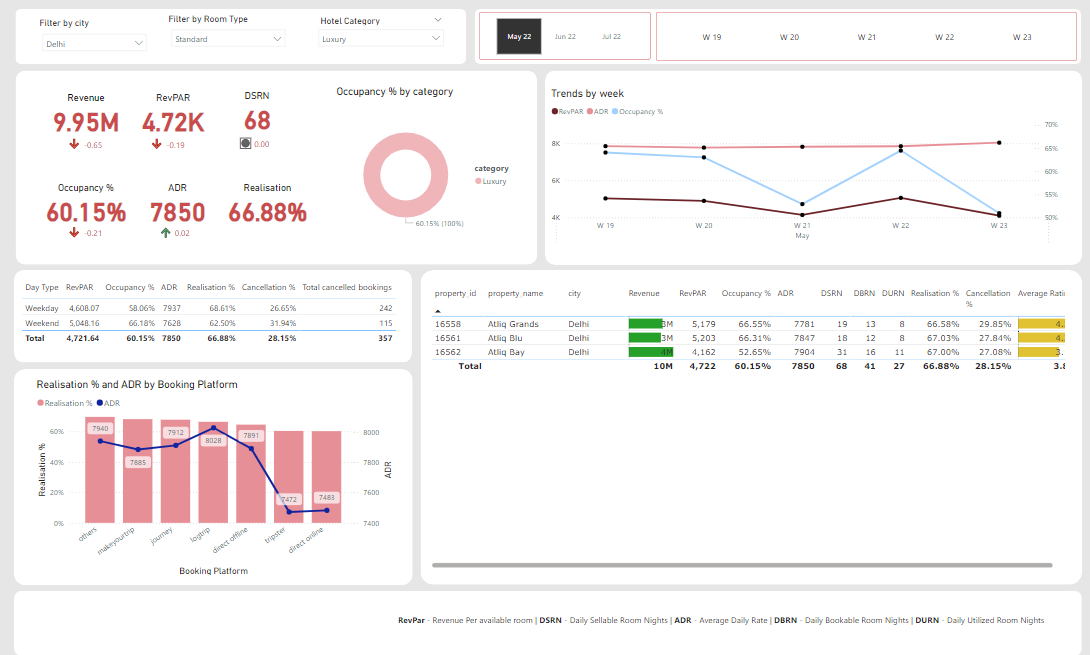

What the dashboard file says about the page in this screenshot:
{"tool":"powerbi","page":{"name":"Page 1","canvas":[1800,1100],"ordinal":0},"visuals":[{"type":"shape","box":[790,42.9,982.7,89.1],"z":0,"group":"g2"},{"type":"tableEx","fields":{"Values":["key_measures.Realisation WoW change %"]},"box":[407.7,362.6,78.5,62.4],"z":0,"group":"g1"},{"type":"shape","box":[702,466,1072,510],"z":0},{"type":"shape","box":[44.4,466.7,644.8,150],"z":0,"group":"g3"},{"type":"shape","box":[44,626,646,350.3],"z":0,"group":"g5"},{"type":"shape","box":[45,143.3,845.3,314.6],"z":500,"group":"g1"},{"type":"shape","box":[45.5,43.6,730,89.1],"z":1000,"group":"g6"},{"type":"group","id":"g1","title":"Group 4","box":[45,143.3,1728.3,315],"z":1000},{"type":"tableEx","fields":{"Values":["key_measures.ADR WoW change %"]},"box":[269.3,361.4,77.1,60.7],"z":1000,"group":"g1"},{"type":"group","id":"g2","title":"Group 1","box":[790,42.9,982.7,89.1],"z":2000},{"type":"slicer","title":"Filter by date","fields":{"Values":["dim_date.mmm yy"]},"box":[797.3,48.6,278.3,77.3],"z":2000,"group":"g7"},{"type":"slicer","title":"Filter by city","fields":{"Values":["dim_hotels.city"]},"box":[79.1,57.2,188,74],"z":2000,"group":"g6"},{"type":"tableEx","fields":{"Values":["key_measures.Occupancy WoW change %"]},"box":[120,362.6,78.5,62.4],"z":2000,"group":"g1"},{"type":"slicer","fields":{"Values":["dim_date.week no"]},"box":[1083.3,47.6,682.1,79.1],"z":3000,"group":"g7"},{"type":"slicer","title":"Filter by Room Type","fields":{"Values":["dim_rooms.room_class"]},"box":[289.3,51.1,203.8,73.8],"z":3000,"group":"g6"},{"type":"donutChart","fields":{"Category":["dim_hotels.category"],"Y":["key_measures.Occupancy %"]},"box":[562.5,167.5,307.5,270],"z":3000},{"type":"tableEx","fields":{"Values":["key_measures.DSRN WoW change %"]},"box":[396.5,214.3,77.1,74.3],"z":3000,"group":"g8"},{"type":"lineChart","title":"Trends by week","fields":{"Category":["dim_date.mmm yy.Variation.Date Hierarchy.Month","dim_date.week no"],"Y":["key_measures.RevPAR","key_measures.ADR"],"Y2":["key_measures.Occupancy %"]},"box":[910,170.2,832.5,262.5],"z":4000},{"type":"tableEx","fields":{"Values":["key_measures.Revpar WoW change %"]},"box":[253,218.2,79.1,61.8],"z":4000,"group":"g1"},{"type":"group","id":"g3","title":"Group 5","box":[44.4,466.7,644.8,150],"z":5000},{"type":"group","id":"g4","title":"Group 6","box":[44,626,646,350],"z":6000},{"type":"tableEx","fields":{"Values":["dim_hotels.property_id","dim_hotels.property_name","dim_hotels.city","key_measures.Revenue","key_measures.RevPAR","key_measures.Occupancy %","key_measures.ADR","key_measures.DSRN","key_measures.DBRN","key_measures.DURN","key_measures.Realisation %","key_measures.Cancellation %"]},"box":[715,486.7,1036.7,468.3],"z":7000},{"type":"shape","box":[44.4,985.6,1730,104.4],"z":8000},{"type":"group","id":"g5","title":"Group 5","box":[44,626,646,350.3],"z":9000,"group":"g4"},{"type":"textbox","box":[662,1018,1090,38],"z":9000},{"type":"group","id":"g6","title":"Group 7","box":[45.5,43.6,730,89.1],"z":10000},{"type":"tableEx","fields":{"Values":["key_measures.Revenue WoW change %"]},"box":[119.7,218.2,79.8,61.6],"z":10000,"group":"g1"},{"type":"tableEx","fields":{"Values":["dim_date.day type","key_measures.RevPAR","key_measures.Occupancy %","key_measures.ADR","key_measures.Realisation %","key_measures.Cancellation %","key_measures.Total cancelled bookings"]},"box":[51.3,475.9,633.8,135],"z":10000,"group":"g3"},{"type":"lineStackedColumnComboChart","fields":{"Category":["fact_bookings.booking_platform"],"Y":["key_measures.Realisation %"],"Y2":["key_measures.ADR"]},"box":[75.3,639.5,585.9,324.4],"z":10000,"group":"g4"},{"type":"slicer","fields":{"Values":["dim_hotels.category"]},"box":[526.2,48.8,222.5,77.5],"z":11000},{"type":"card","title":"Revenue","fields":{"Values":["key_measures.Revenue"]},"box":[81.7,176.8,155.2,72.3],"z":11000,"group":"g1"},{"type":"group","id":"g7","title":"Group 2","box":[797.3,47.6,968.2,79.1],"z":11500,"group":"g2"},{"type":"shape","box":[902.8,143.3,870.5,315],"z":12002,"group":"g1"},{"type":"group","id":"g8","title":"Group 3","box":[357.4,174.1,155.9,114.2],"z":12502,"group":"g1"},{"type":"card","title":"DSRN","fields":{"Values":["key_measures.DSRN"]},"box":[357.4,174.1,155.2,71.7],"z":13000,"group":"g8"},{"type":"card","title":"Occupancy %","fields":{"Values":["key_measures.Occupancy %"]},"box":[81.6,322.2,155.2,71.7],"z":14000,"group":"g1"},{"type":"card","title":"RevPAR","fields":{"Values":["key_measures.RevPAR"]},"box":[222.1,176.4,155.2,73.1],"z":15000,"group":"g1"},{"type":"card","title":"ADR","fields":{"Values":["key_measures.ADR"]},"box":[230,322.3,155.2,71.7],"z":16000,"group":"g1"},{"type":"card","title":"Realisation","fields":{"Values":["key_measures.Realisation %"]},"box":[375.3,322.3,155,71.6],"z":17000,"group":"g1"}]}

Visuals, with their boxes in screenshot pixels (x1, y1, x2, y2), scaled from the page's 1800x1100 canvas onto the 1090x655 screenshot:
shape: region(478, 26, 1073, 79)
tableEx - key_measures.Realisation WoW change %: region(247, 216, 294, 253)
shape: region(425, 277, 1074, 581)
shape: region(27, 278, 417, 367)
shape: region(27, 373, 418, 581)
shape: region(27, 85, 539, 273)
shape: region(28, 26, 470, 79)
"Group 4" group: region(27, 85, 1074, 273)
tableEx - key_measures.ADR WoW change %: region(163, 215, 210, 251)
"Group 1" group: region(478, 26, 1073, 79)
"Filter by date" slicer: region(483, 29, 651, 75)
"Filter by city" slicer: region(48, 34, 162, 78)
tableEx - key_measures.Occupancy WoW change %: region(73, 216, 120, 253)
slicer - dim_date.week no: region(656, 28, 1069, 75)
"Filter by Room Type" slicer: region(175, 30, 299, 74)
donutChart - dim_hotels.category x key_measures.Occupancy %: region(341, 100, 527, 261)
tableEx - key_measures.DSRN WoW change %: region(240, 128, 287, 172)
"Trends by week" lineChart: region(551, 101, 1055, 258)
tableEx - key_measures.Revpar WoW change %: region(153, 130, 201, 167)
"Group 5" group: region(27, 278, 417, 367)
"Group 6" group: region(27, 373, 418, 581)
tableEx - dim_hotels.property_id x dim_hotels.property_name: region(433, 290, 1061, 569)
shape: region(27, 587, 1074, 649)
"Group 5" group: region(27, 373, 418, 581)
textbox: region(401, 606, 1061, 629)
"Group 7" group: region(28, 26, 470, 79)
tableEx - key_measures.Revenue WoW change %: region(72, 130, 121, 167)
tableEx - dim_date.day type x key_measures.RevPAR: region(31, 283, 415, 364)
lineStackedColumnComboChart - fact_bookings.booking_platform x key_measures.Realisation %: region(46, 381, 400, 574)
slicer - dim_hotels.category: region(319, 29, 453, 75)
"Revenue" card: region(49, 105, 143, 148)
"Group 2" group: region(483, 28, 1069, 75)
shape: region(547, 85, 1074, 273)
"Group 3" group: region(216, 104, 311, 172)
"DSRN" card: region(216, 104, 310, 146)
"Occupancy %" card: region(49, 192, 143, 235)
"RevPAR" card: region(134, 105, 228, 149)
"ADR" card: region(139, 192, 233, 235)
"Realisation" card: region(227, 192, 321, 235)
